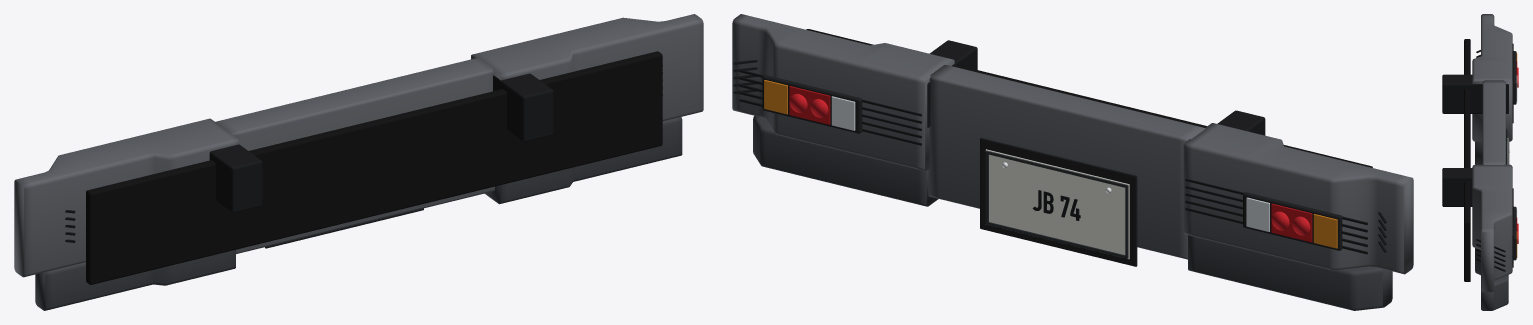
Rendered from rearBumper_damd_little5_rear.glb.
3 renders of one model, left to right at view 1: azimuth 30°, elevation 25°; view 2: azimuth 150°, elevation 25°; view 3: azimuth 270°, elevation 25°, orthographic. The views are drawn at different scales.
Parts seen in each view (by area): view 1: valance.004, block-1.002, centre.001, block1.002, lip-1.001, lip1.001, mount1.004, mount-1.004; view 2: centre.001, block-1.002, block1.002, plate.007, lip-1.001, lip1.001, plateRecess.001, grooves1.001, grooves-1.001, lampCase-1.001, lampCase1.001, valance.004 (+11 smaller); view 3: block1.002, block-1.002, centre.001, valance.004, mount-1.004, mount1.004, lip1.001, grooves1.001, lampCase1.001, lampCase-1.001, lip-1.001, grooves-1.001 (+1 smaller).
Part boxes in pixels (bbox=[...]): valance.004: bbox=[86, 51, 662, 284]; block-1.002: bbox=[14, 118, 239, 277]; centre.001: bbox=[214, 58, 494, 253]; block1.002: bbox=[471, 14, 703, 121]; lip-1.001: bbox=[35, 250, 235, 310]; lip1.001: bbox=[485, 117, 682, 204]; mount1.004: bbox=[493, 73, 553, 142]; mount-1.004: bbox=[209, 144, 262, 213]; centre.001: bbox=[928, 65, 1205, 259]; block-1.002: bbox=[1183, 123, 1413, 274]; block1.002: bbox=[732, 14, 954, 170]; plate.007: bbox=[985, 149, 1129, 259]; lip-1.001: bbox=[1188, 235, 1392, 310]; lip1.001: bbox=[753, 115, 938, 206]; plateRecess.001: bbox=[980, 137, 1137, 266]; grooves1.001: bbox=[733, 60, 921, 145]; grooves-1.001: bbox=[1185, 178, 1386, 254]; lampCase-1.001: bbox=[1243, 192, 1342, 250]; lampCase1.001: bbox=[762, 75, 862, 133]; valance.004: bbox=[806, 29, 1372, 167]; block1.002: bbox=[1472, 164, 1512, 292]; block-1.002: bbox=[1472, 14, 1512, 141]; centre.001: bbox=[1482, 80, 1505, 164]; valance.004: bbox=[1464, 39, 1470, 281]; mount-1.004: bbox=[1442, 74, 1508, 113]; mount1.004: bbox=[1442, 168, 1472, 206]; lip1.001: bbox=[1475, 248, 1508, 310]; grooves1.001: bbox=[1476, 188, 1513, 271]; lampCase1.001: bbox=[1512, 206, 1516, 260]; lampCase-1.001: bbox=[1512, 51, 1516, 104]; lip-1.001: bbox=[1475, 141, 1507, 164]; grooves-1.001: bbox=[1476, 43, 1513, 123].
Bounding box in the file's own units: 1.54 × 0.305 × 0.228.
